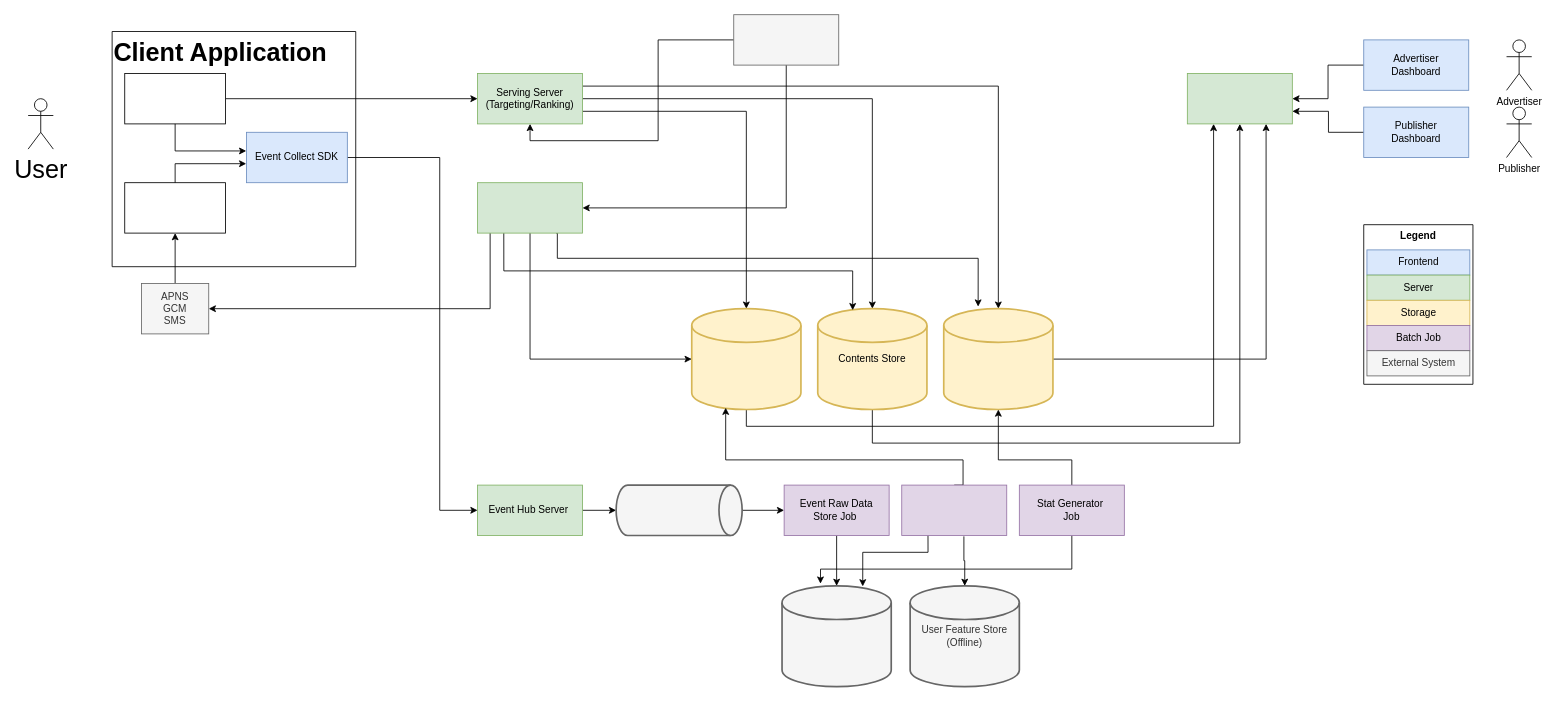
Image size: 1557x702. Some labels were removed from this diagram. The shapes that lost their labels are listed below. From the top down, each one's centre as x and y in pixels, then its label:
(x=786, y=39): Scheduler
(x=175, y=98): Display Client
(x=1239, y=98): Admin Server
(x=175, y=207): Message Client
(x=530, y=207): Message Generator
(x=745, y=358): User Feature Store (Online)
(x=997, y=358): Stat Store
(x=679, y=510): Message Queue
(x=954, y=510): User Feature Generator Job
(x=836, y=636): Object Storage
